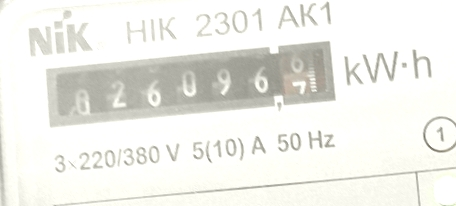0: (175, 65, 199, 102), (69, 84, 92, 117)
2: (104, 76, 128, 113)
6: (141, 74, 163, 111), (248, 61, 269, 96), (284, 47, 306, 76)
7: (288, 76, 308, 99)
9: (211, 65, 233, 98)
screen: (32, 30, 343, 141)
